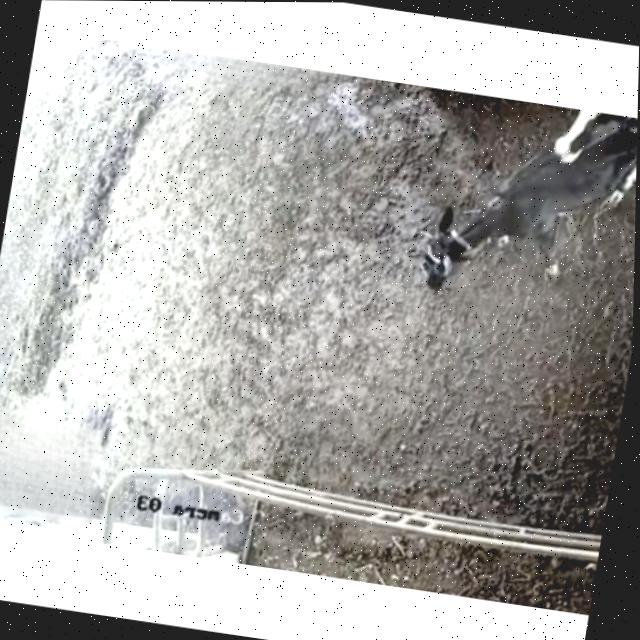ride: (531, 105, 638, 238)
